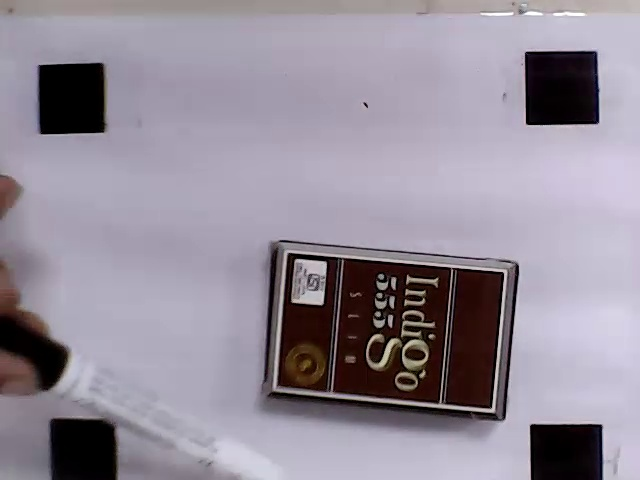BEX: (274, 253, 505, 410)
